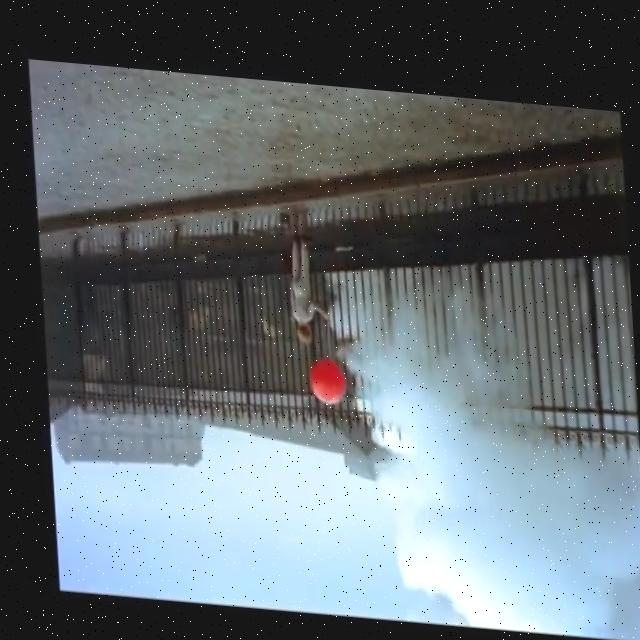balloon: (303, 351, 344, 400)
